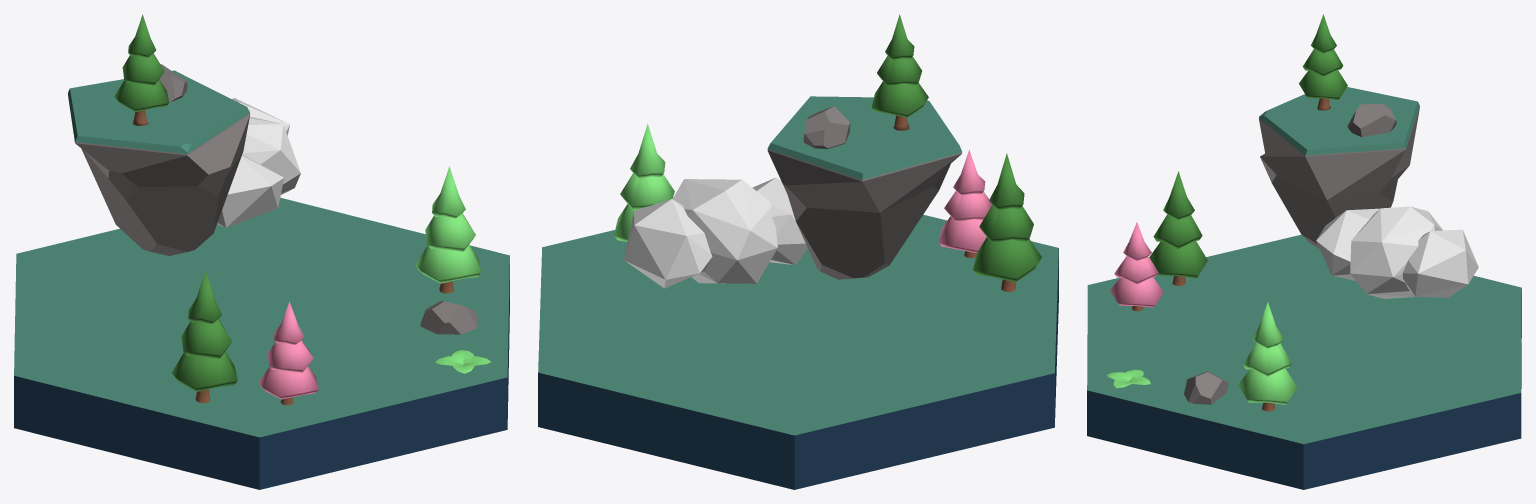
The model's file is Macro - Townhall lvl 123 Wind Land rev.fbx.
The picture shows the model from 3 angles, left to right: view 1: azimuth 30°, elevation 25°; view 2: azimuth 150°, elevation 25°; view 3: azimuth 270°, elevation 25°; orthographic projection. The views are drawn at different scales.
Parts seen in each view (by area): view 1: Cylinder.049, Icosphere.011, Icosphere.010, Cloud_1.004, Tree_Spruce_tiny_01.004, Tree_Spruce_tiny_01.005, Tree_Spruce_tiny_01.006, Tree_Spruce_tiny_01.009, Rock Type2 04 mesh.024, Plane.002, Rock Type2 04 mesh.026; view 2: Cylinder.049, Cloud_1.004, Icosphere.011, Icosphere.010, Tree_Spruce_tiny_01.004, Tree_Spruce_tiny_01.009, Tree_Spruce_tiny_01.006, Tree_Spruce_tiny_01.005, Rock Type2 04 mesh.026; view 3: Cylinder.049, Cloud_1.004, Icosphere.011, Icosphere.010, Tree_Spruce_tiny_01.004, Tree_Spruce_tiny_01.005, Tree_Spruce_tiny_01.006, Tree_Spruce_tiny_01.009, Rock Type2 04 mesh.026, Rock Type2 04 mesh.024, Plane.002.
Part boxes in pixels (x1,y1,x2,y2): Cylinder.049: (14, 197, 509, 489); Icosphere.011: (68, 95, 250, 255); Icosphere.010: (68, 70, 249, 154); Cloud_1.004: (217, 98, 300, 227); Tree_Spruce_tiny_01.004: (171, 270, 237, 402); Tree_Spruce_tiny_01.005: (415, 166, 481, 293); Tree_Spruce_tiny_01.006: (258, 301, 318, 405); Tree_Spruce_tiny_01.009: (114, 14, 169, 125); Rock Type2 04 mesh.024: (420, 301, 478, 334); Plane.002: (435, 350, 490, 373); Rock Type2 04 mesh.026: (159, 64, 187, 102); Cylinder.049: (538, 214, 1058, 489); Cloud_1.004: (624, 177, 807, 288); Icosphere.011: (767, 149, 962, 279); Icosphere.010: (767, 96, 961, 179); Tree_Spruce_tiny_01.004: (973, 153, 1041, 291); Tree_Spruce_tiny_01.009: (871, 14, 928, 130); Tree_Spruce_tiny_01.006: (938, 150, 992, 258); Tree_Spruce_tiny_01.005: (614, 124, 674, 241); Rock Type2 04 mesh.026: (803, 106, 850, 149); Cylinder.049: (1087, 234, 1521, 489); Cloud_1.004: (1316, 206, 1478, 298); Icosphere.011: (1259, 107, 1419, 248); Icosphere.010: (1259, 87, 1419, 155); Tree_Spruce_tiny_01.004: (1149, 171, 1207, 285); Tree_Spruce_tiny_01.005: (1238, 302, 1297, 411); Tree_Spruce_tiny_01.006: (1110, 222, 1163, 311); Tree_Spruce_tiny_01.009: (1299, 14, 1347, 110); Rock Type2 04 mesh.026: (1347, 103, 1396, 137); Rock Type2 04 mesh.024: (1184, 371, 1228, 404); Plane.002: (1107, 369, 1150, 388).
Bounding box in the file's own units: 197 × 142 × 172.
